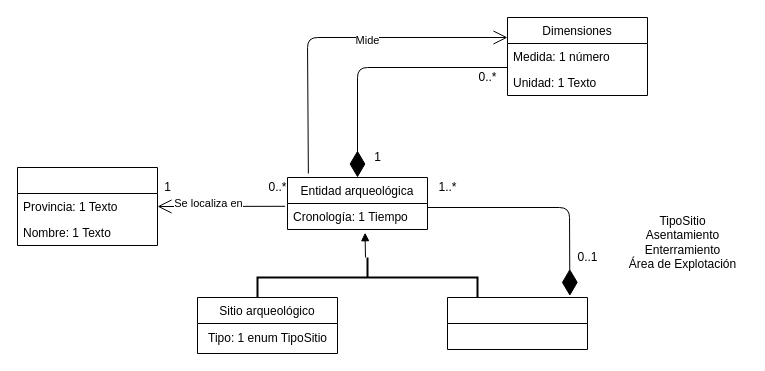
Image size: 765x371. Some labels were removed from this diagram. Here are the shapes that lost their labels. From the top down, the box of each, then its label:
(16, 166, 158, 246): Lugar
(446, 296, 588, 350): Conjunto arqueológico
